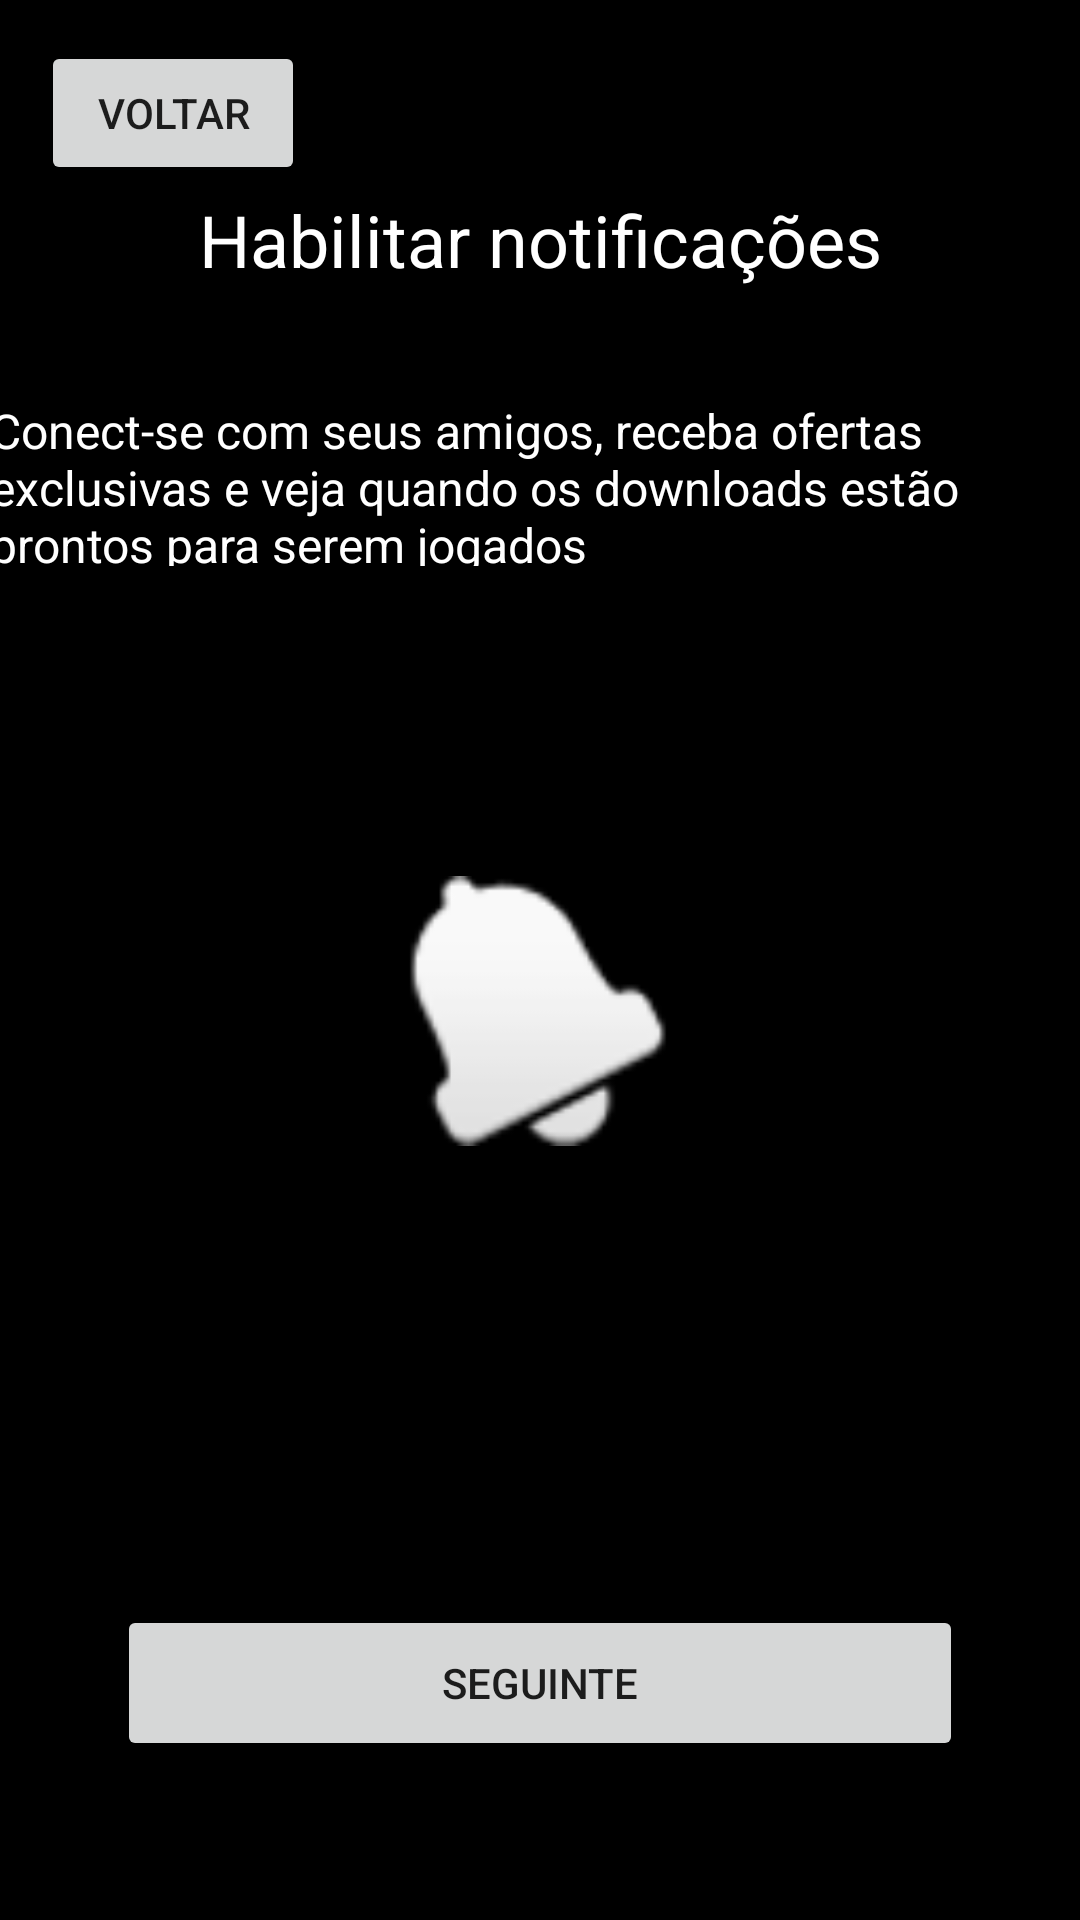

Where to tap for icons on this 1080w x 1920h app screen, as [x,y]:
popup reminder: [538,1011]
